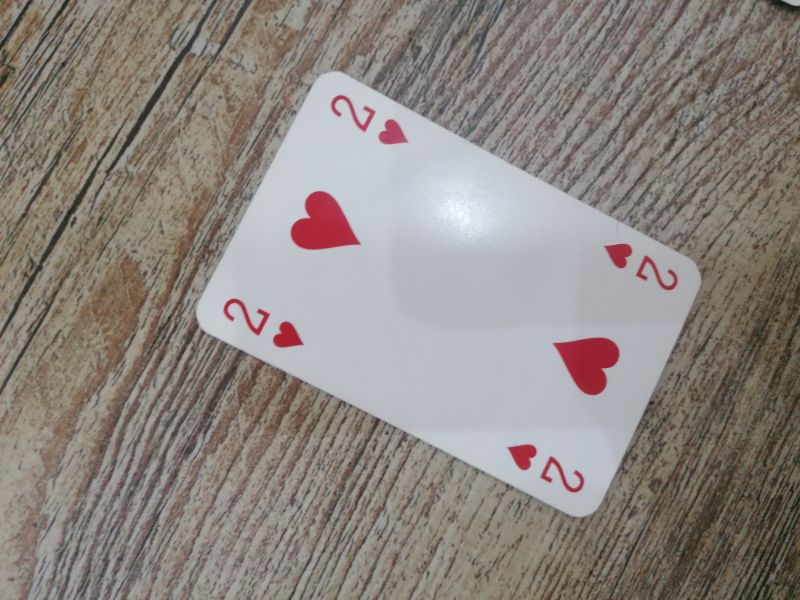2h: (221, 295, 306, 351), (328, 92, 412, 148), (506, 442, 587, 497), (603, 240, 680, 293)
